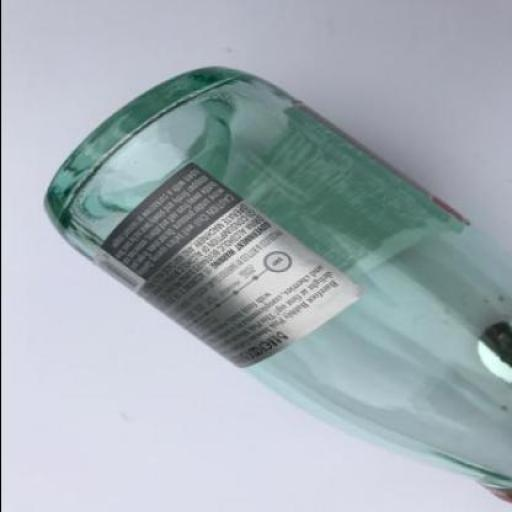glass: (43, 67, 511, 509)
